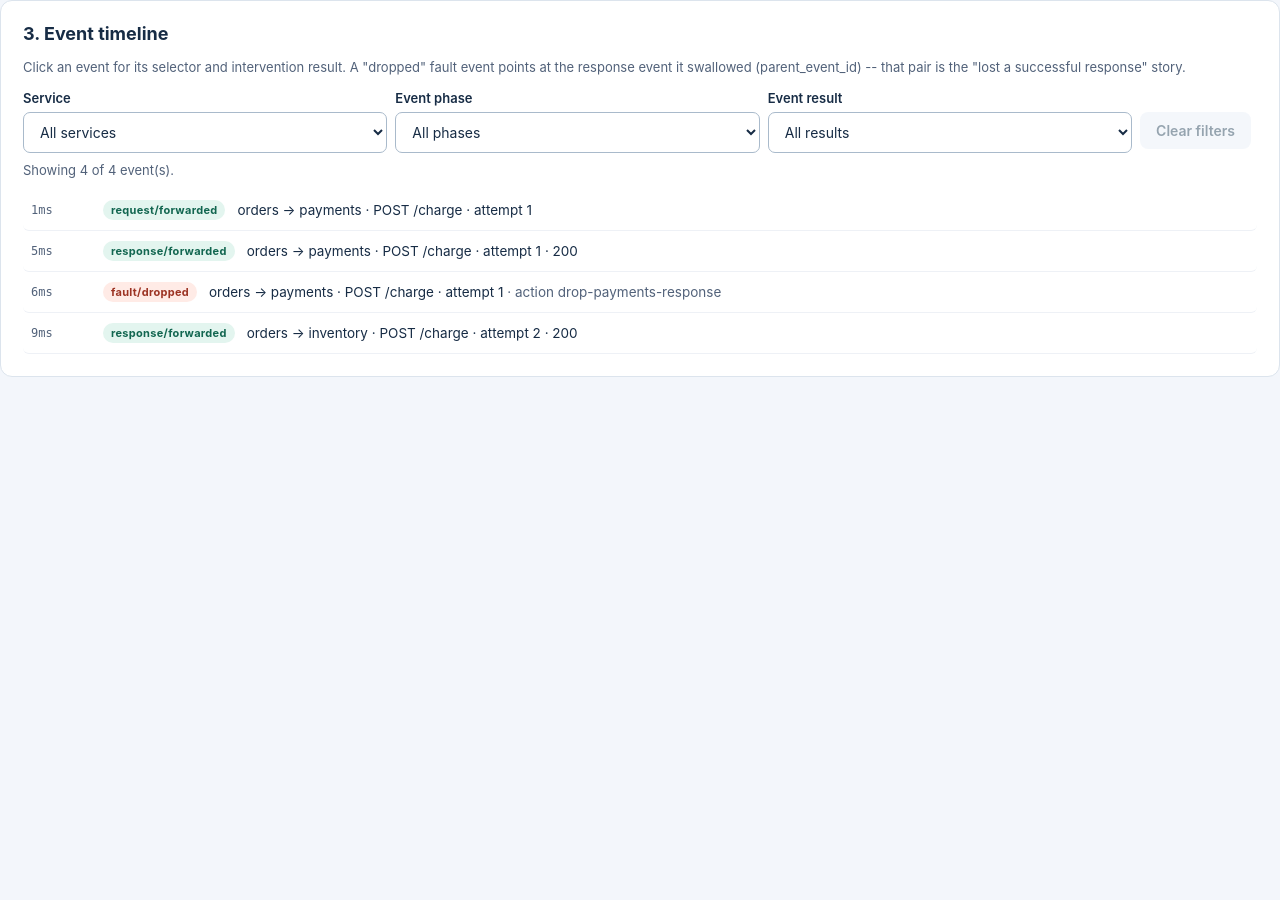
Test: <EventTimeline/> › shows the intervention and the parent response of a dropped event
Click the button "fault/dropped" at (640, 292), box [23, 272, 1257, 313]
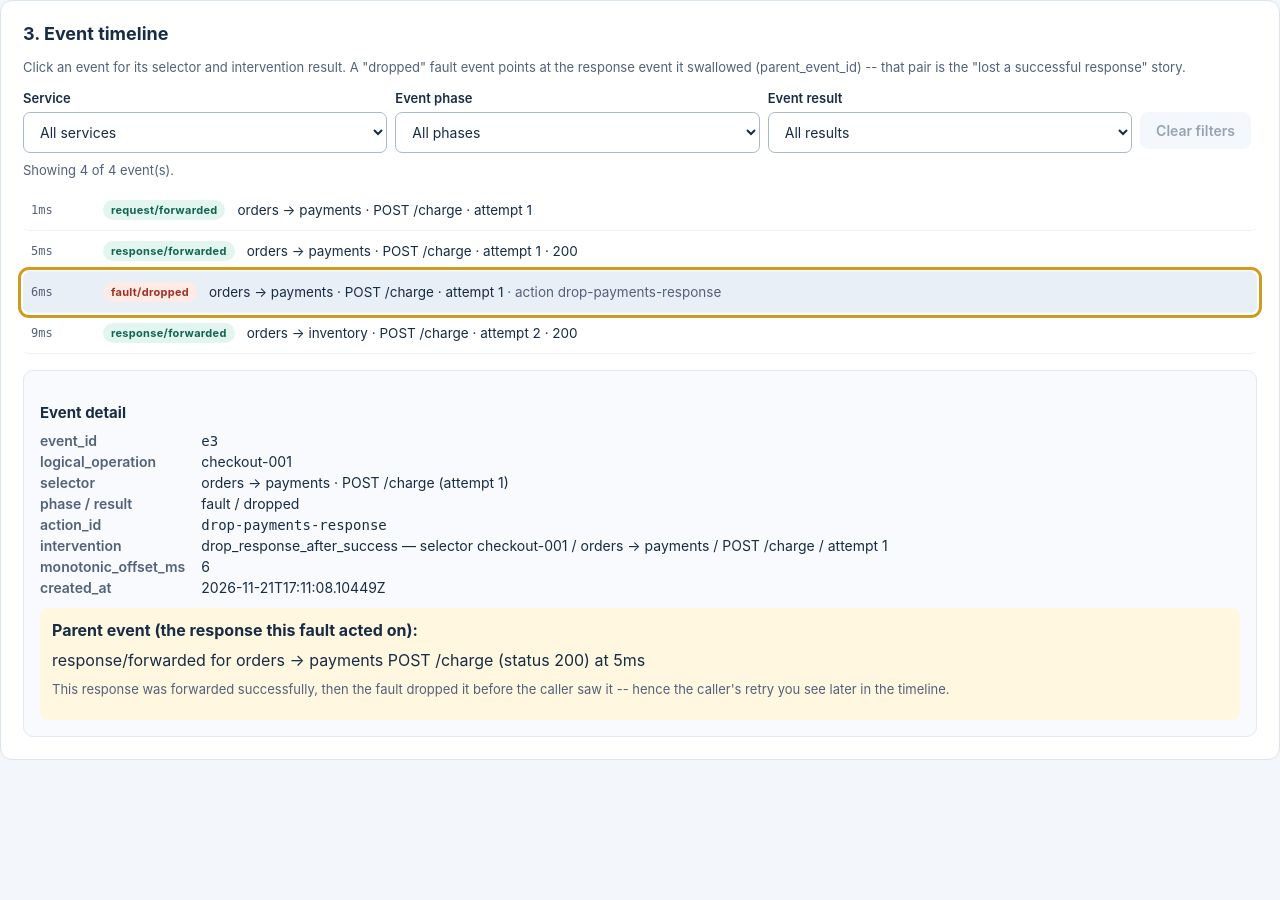
Now the text "drop_response_after_success" is shown, box [201, 537, 398, 554]
Now the text "Parent event (the response this fault acted on):" is shown, box [52, 620, 418, 640]
Now the text "status 200) at 5ms" is shown, box [52, 650, 645, 670]
